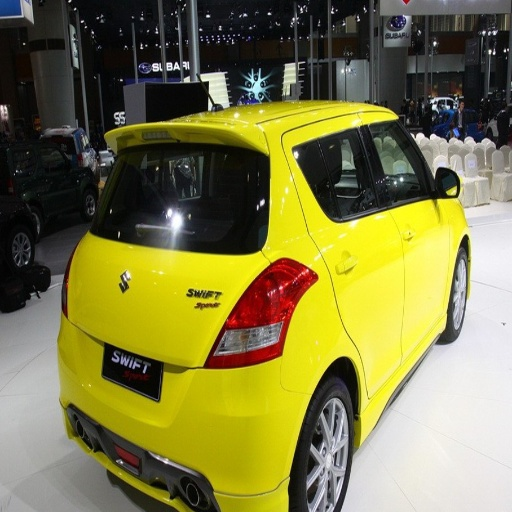back_bumper: (63, 321, 319, 511)
back_right_door: (293, 121, 418, 391)
back_right_light: (214, 266, 314, 365)
trunk: (75, 242, 256, 413)
